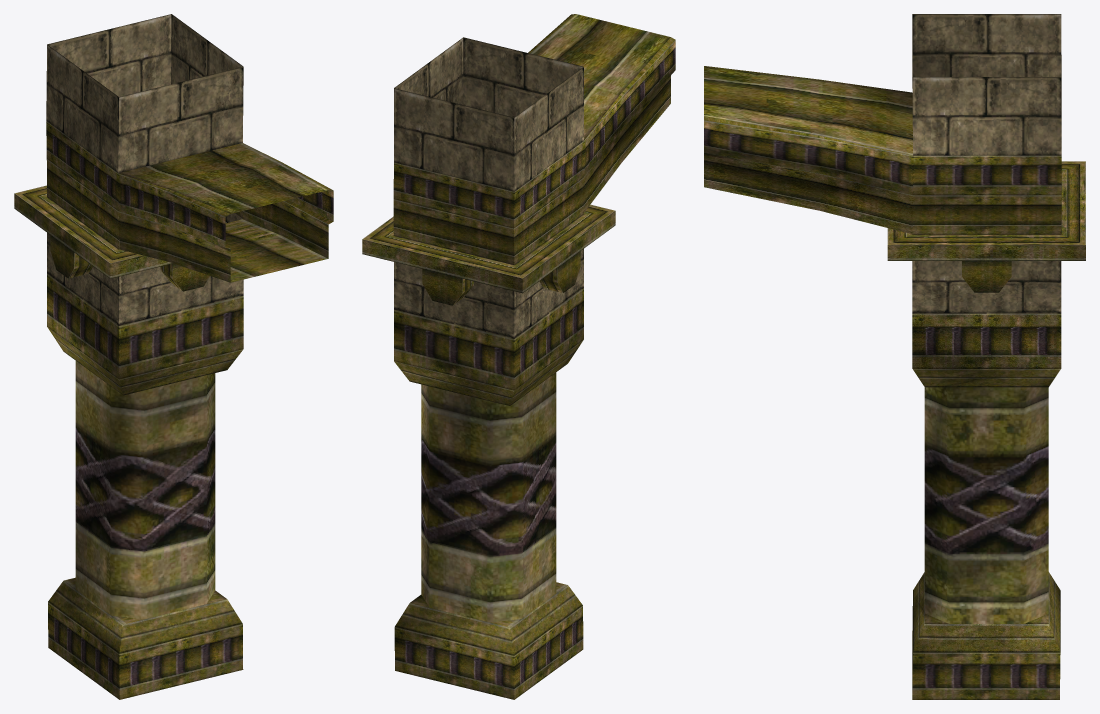
File: OVERHILL_A_01_OBJECT97.fbx
3 renders of one model, left to right at view 1: azimuth 30°, elevation 25°; view 2: azimuth 150°, elevation 25°; view 3: azimuth 270°, elevation 25°, orthographic. The views are drawn at different scales.
Parts seen in each view (by area): view 1: OVERHILL_A_01_OBJECT97; view 2: OVERHILL_A_01_OBJECT97; view 3: OVERHILL_A_01_OBJECT97.
Part boxes in pixels (x1=…): OVERHILL_A_01_OBJECT97: x1=14, y1=14, x2=333, y2=699; OVERHILL_A_01_OBJECT97: x1=362, y1=14, x2=675, y2=699; OVERHILL_A_01_OBJECT97: x1=704, y1=14, x2=1085, y2=699.
Bounding box in the file's own units: 16511 × 57259 × 31793.
Materials: 6 (6 with a texture image).
